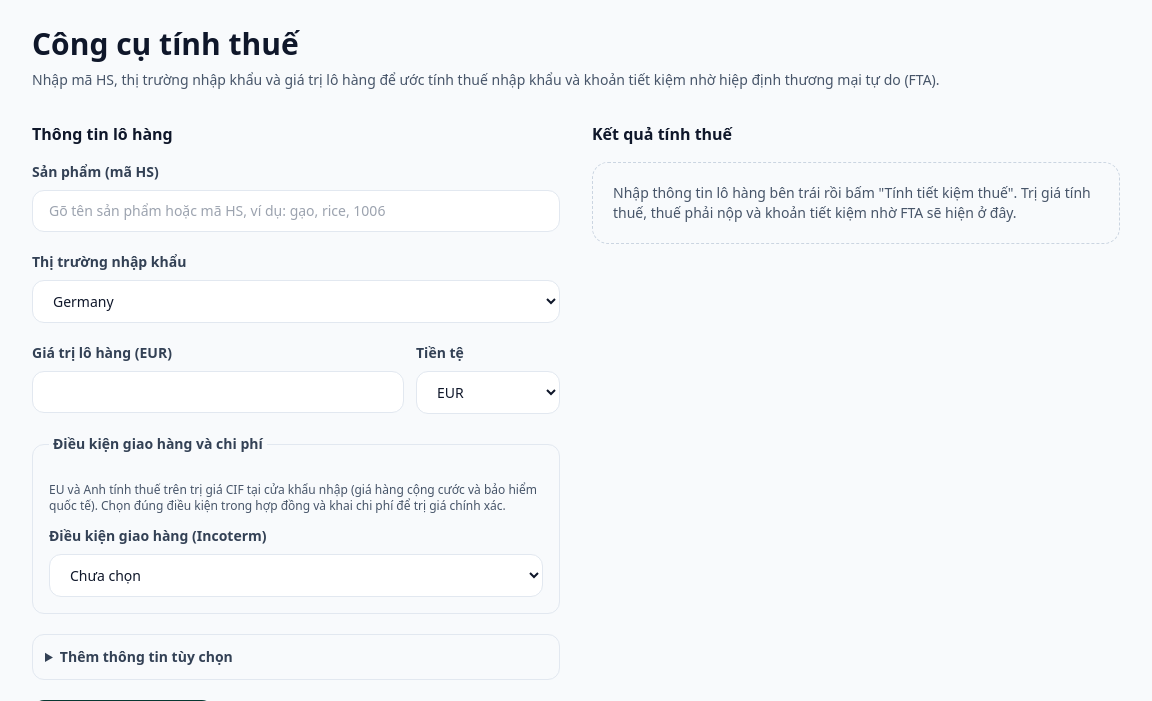
Test: Gợi ý cước và bảo hiểm (N6a) › có giá tham khảo đã duyệt: hiện khoảng giá, nguồn và nút điền vào ô cước
The width and height of the screenshot is (1152, 701).
Select "FOB — Giao lên tàu" in the dropdown labelled "Điều kiện giao hàng (Incoterm)" at (296, 576), box [49,554,543,597]
(page scrolled)
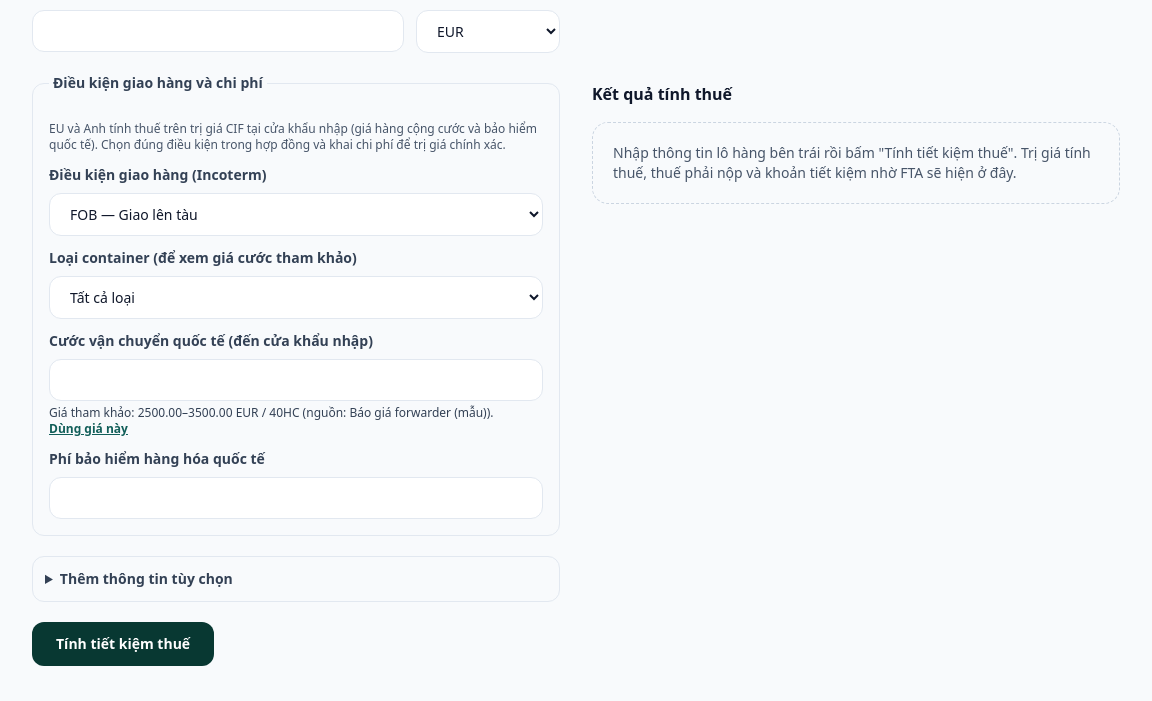
Now the text "Báo giá forwarder (mẫu)" is shown, box [350,404,487,421]
Click the button "Dùng giá này" at (88, 429), box [49,421,128,437]
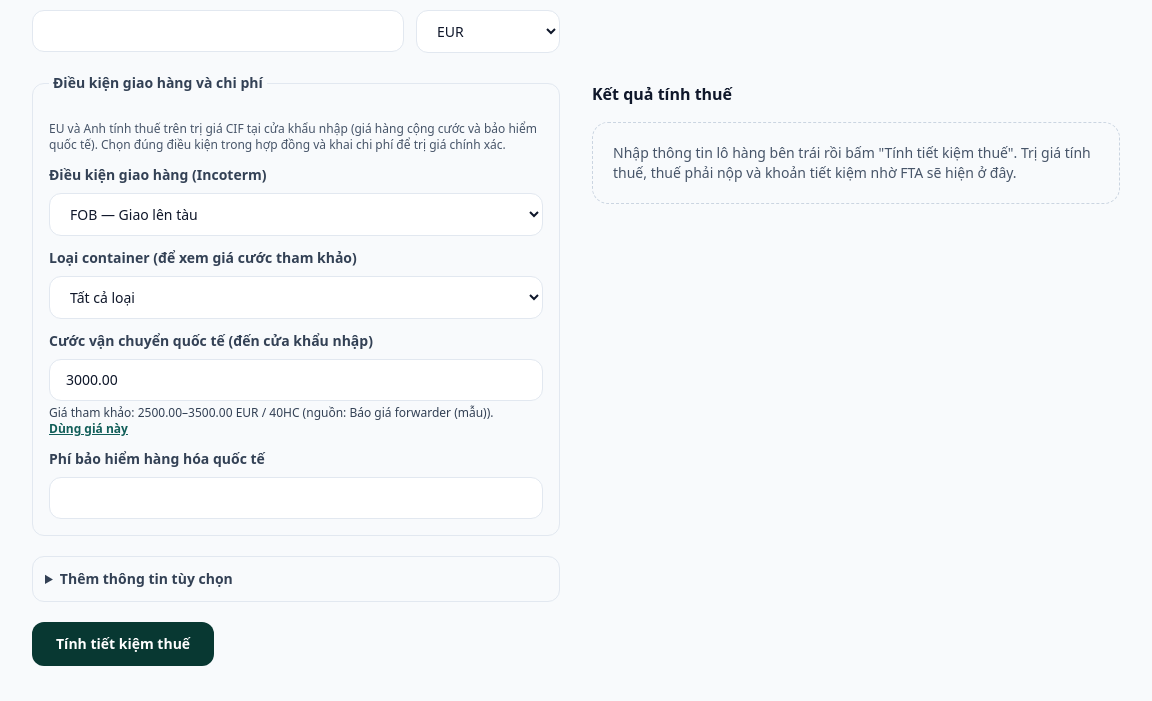
Now the field labelled "Cước vận chuyển quốc tế (đến cửa khẩu nhập)" holds "3000.00", box [49,359,543,401]
